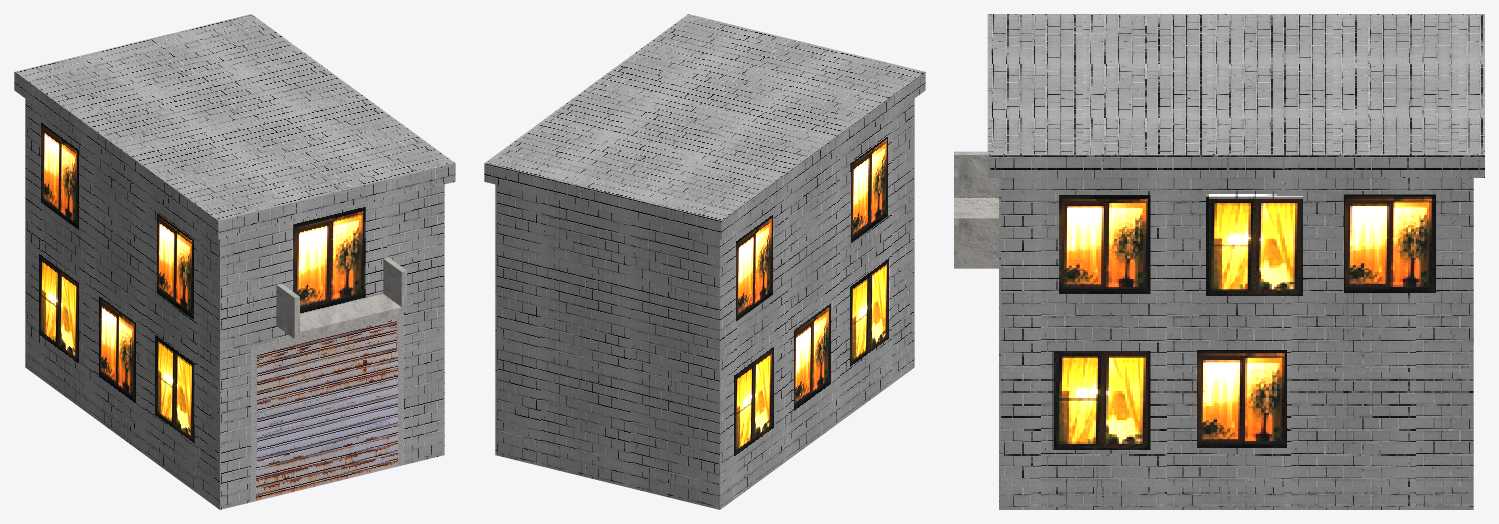
Rendered from alley_02.glb.
The picture shows the model from 3 angles, left to right: view 1: azimuth 30°, elevation 25°; view 2: azimuth 150°, elevation 25°; view 3: azimuth 270°, elevation 25°; orthographic projection. The views are drawn at different scales.
Parts seen in each view (by area): view 1: alley_02; view 2: alley_02; view 3: alley_02.
Boxes of the visible parts, x1,y1,x2,y2 form: alley_02: [14, 14, 455, 509]; alley_02: [484, 14, 925, 509]; alley_02: [954, 14, 1484, 509].
Bounding box in the file's own units: 4.22 × 5 × 6.71.
1 material, 1 textured.
